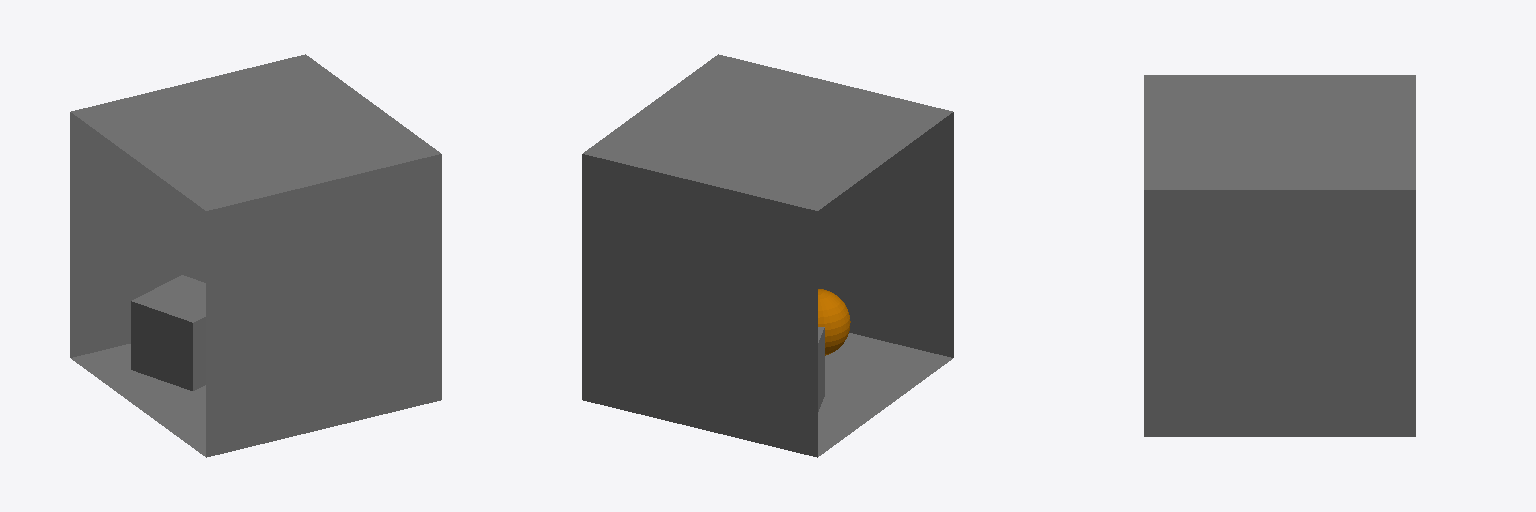
The model's file is renderformertest01.obj.
3 views of the same model, side by side, from view 1: azimuth 30°, elevation 25°; view 2: azimuth 150°, elevation 25°; view 3: azimuth 270°, elevation 25° (orthographic).
Visible parts, largest first — view 1: Box001, Box002; view 2: Box001, Sphere001, Box002; view 3: Box001.
Boxes of the visible parts, box(x1,y1,x2,y2) form: Box001: box(70, 54, 441, 457); Box002: box(131, 275, 205, 390); Box001: box(582, 54, 953, 457); Sphere001: box(818, 289, 850, 355); Box002: box(818, 327, 824, 411); Box001: box(1144, 75, 1415, 436).
Size of the model in its own units: 10 by 10 by 10.